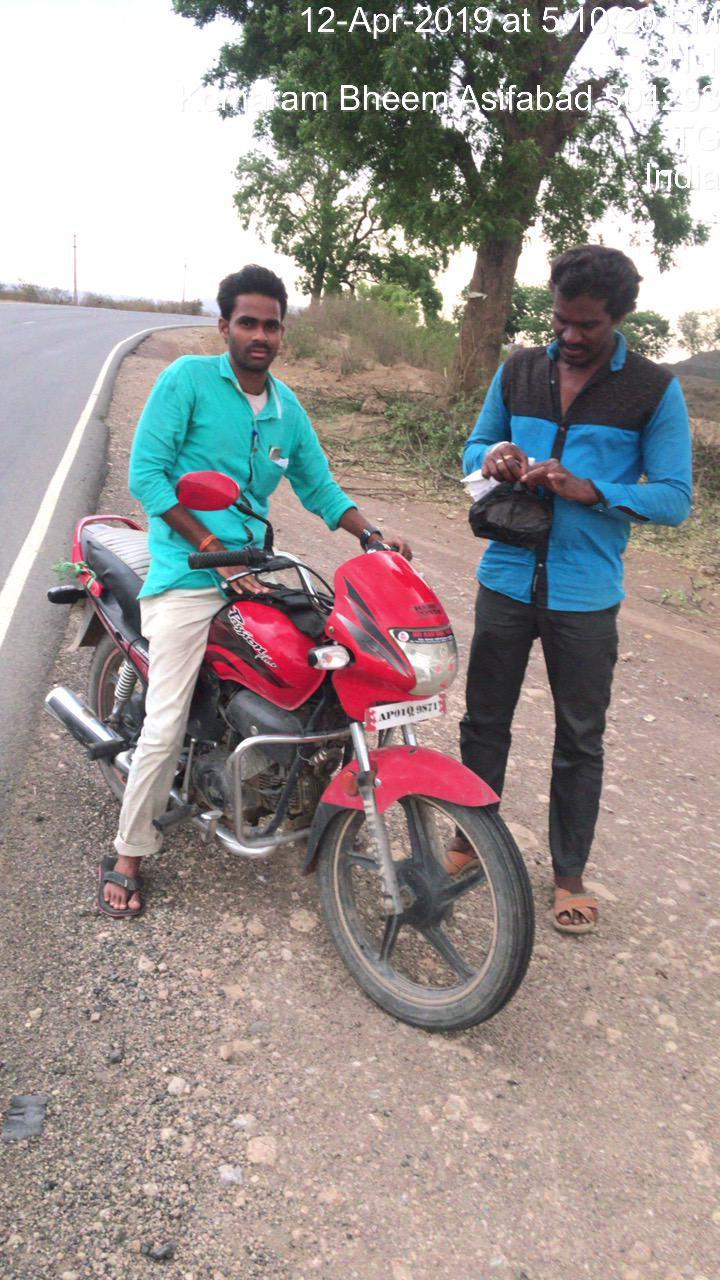plate: (349, 683, 463, 754)
